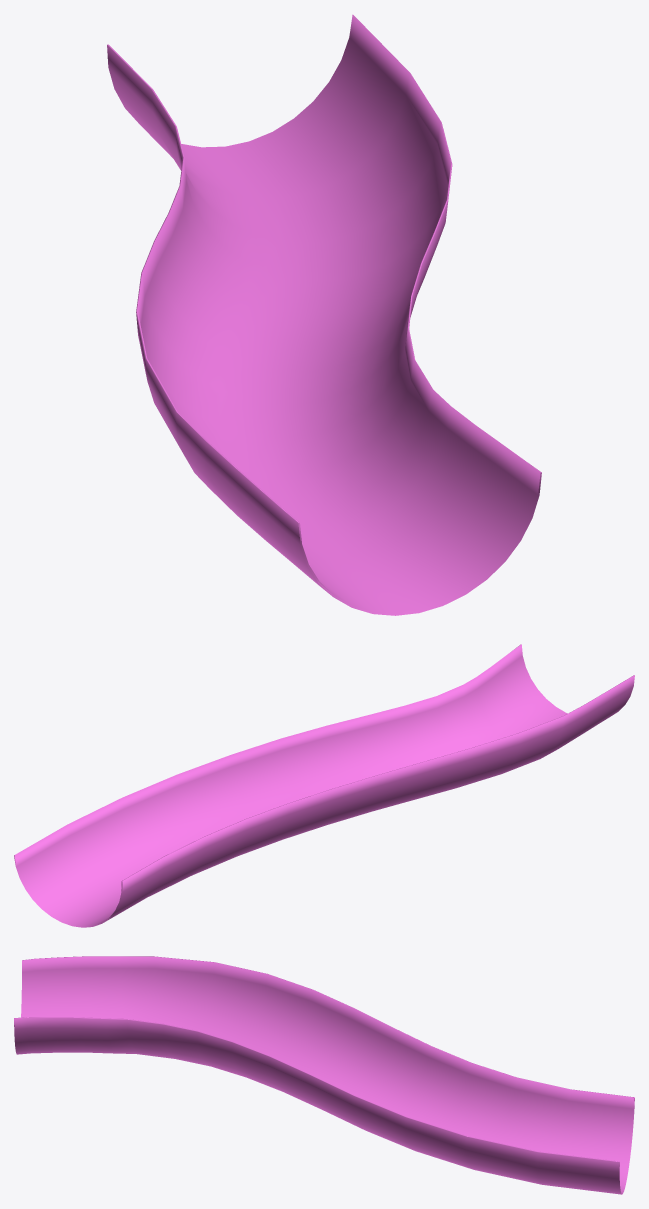
Rendered from giriş.fbx.
3 views of the same model, one above another, from view 1: azimuth 30°, elevation 25°; view 2: azimuth 150°, elevation 25°; view 3: azimuth 270°, elevation 25° (orthographic). The views are drawn at different scales.
Parts seen in each view (by area): view 1: yatayboru.002; view 2: yatayboru.002; view 3: yatayboru.002.
Boxes of the visible parts, x1,y1,x2,y2 form: yatayboru.002: (107,14,541,615); yatayboru.002: (14,644,634,927); yatayboru.002: (14,956,634,1194).
Size of the model in its own units: 411 by 125 by 675.
